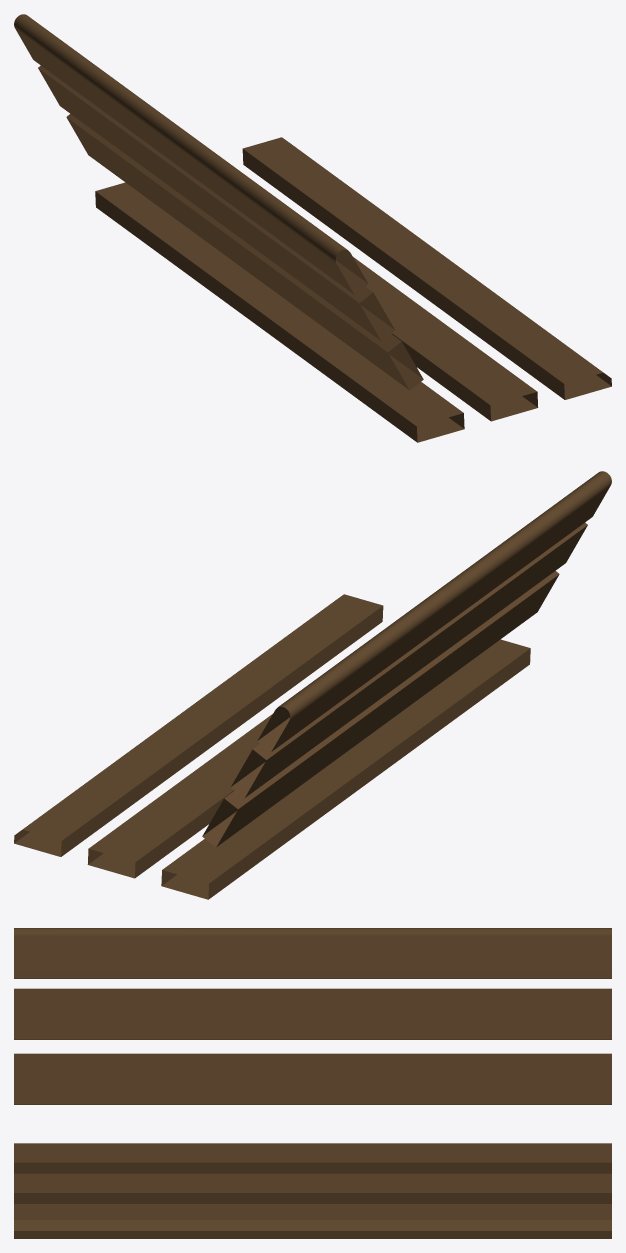
File: benchplanks.fbx
3 views of the same model, one above another, from view 1: azimuth 30°, elevation 25°; view 2: azimuth 150°, elevation 25°; view 3: azimuth 270°, elevation 25° (orthographic). The views are drawn at different scales.
Parts seen in each view (by area): view 1: pCube27, pCube25, pCube22, pCube24, pCube23, pCube26; view 2: pCube27, pCube25, pCube22, pCube24, pCube23, pCube26; view 3: pCube23, pCube24, pCube22, pCube27, pCube25, pCube26.
Boxes of the visible parts, box(x1,y1,x2,y2) form: pCube27: box(242, 137, 611, 399); pCube25: box(95, 182, 464, 442); pCube22: box(14, 14, 368, 294); pCube24: box(66, 114, 423, 390); pCube23: box(38, 65, 395, 341); pCube26: box(353, 257, 538, 421); pCube27: box(14, 594, 383, 856); pCube25: box(161, 639, 530, 899); pCube22: box(257, 471, 611, 751); pCube24: box(202, 571, 559, 847); pCube23: box(230, 522, 587, 798); pCube26: box(87, 714, 272, 878); pCube23: box(14, 988, 611, 1039); pCube24: box(14, 1053, 611, 1104); pCube22: box(14, 928, 611, 978); pCube27: box(14, 1204, 611, 1238); pCube25: box(14, 1143, 611, 1173); pCube26: box(14, 1173, 611, 1203).
Bounding box in the file's own units: 1.55 × 1.13 × 3.13.
